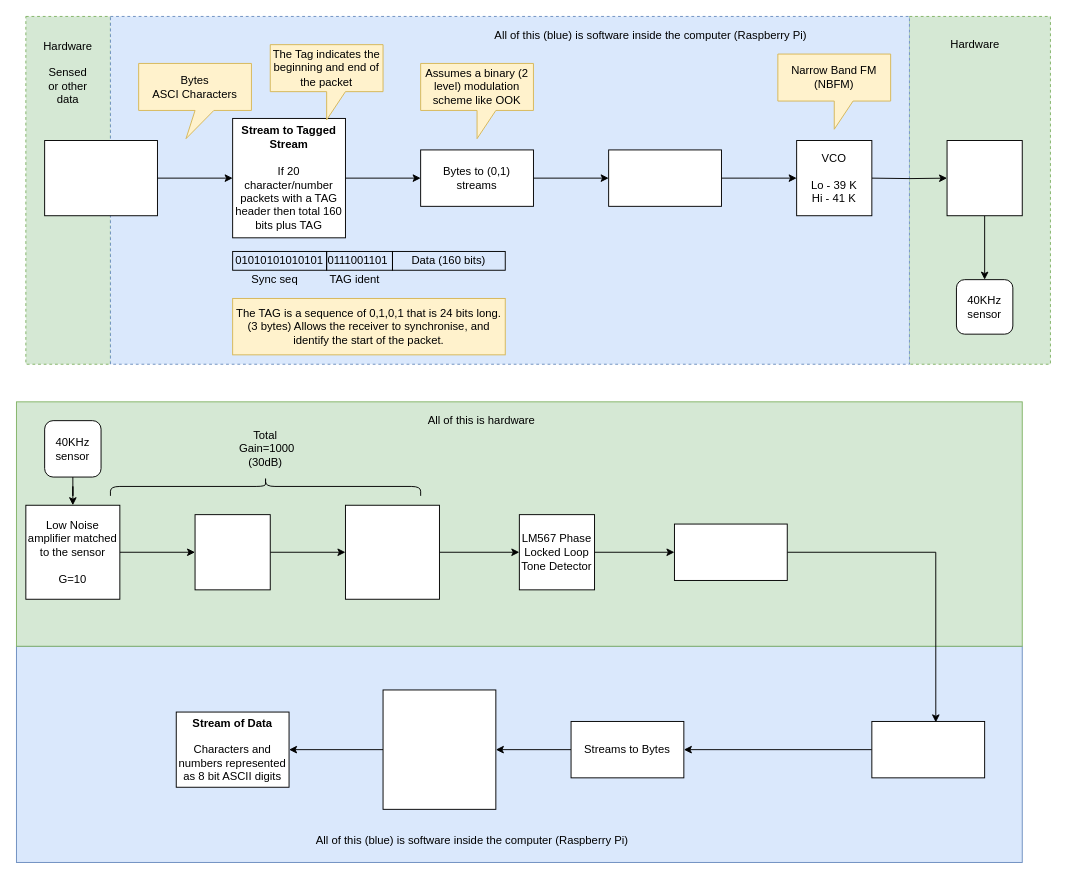
This 1067x879 diagram has some shape labels left out. Here are the shapes that lost their labels. From the top down, the centre of each, then its label:
the point at 100,178: Stream Data Source Characters and numbers represented as 8 bit ASCII digits
the point at 664,177: Converts (0,1) characters to voltage levels -1V and +1V
the point at 984,178: D/A Converter Min 96Ksps
the point at 232,552: Amplifier G=10
the point at 392,551: Limiting Amplifier G=10 Limit=+0.5V to -0.5V
the point at 730,551: Standard sound card sampling at 44.1 ksps
the point at 439,749: Tagged Stream to Stream
the point at 928,749: Converts voltage levels -1V and +1V to (0,1) characters
